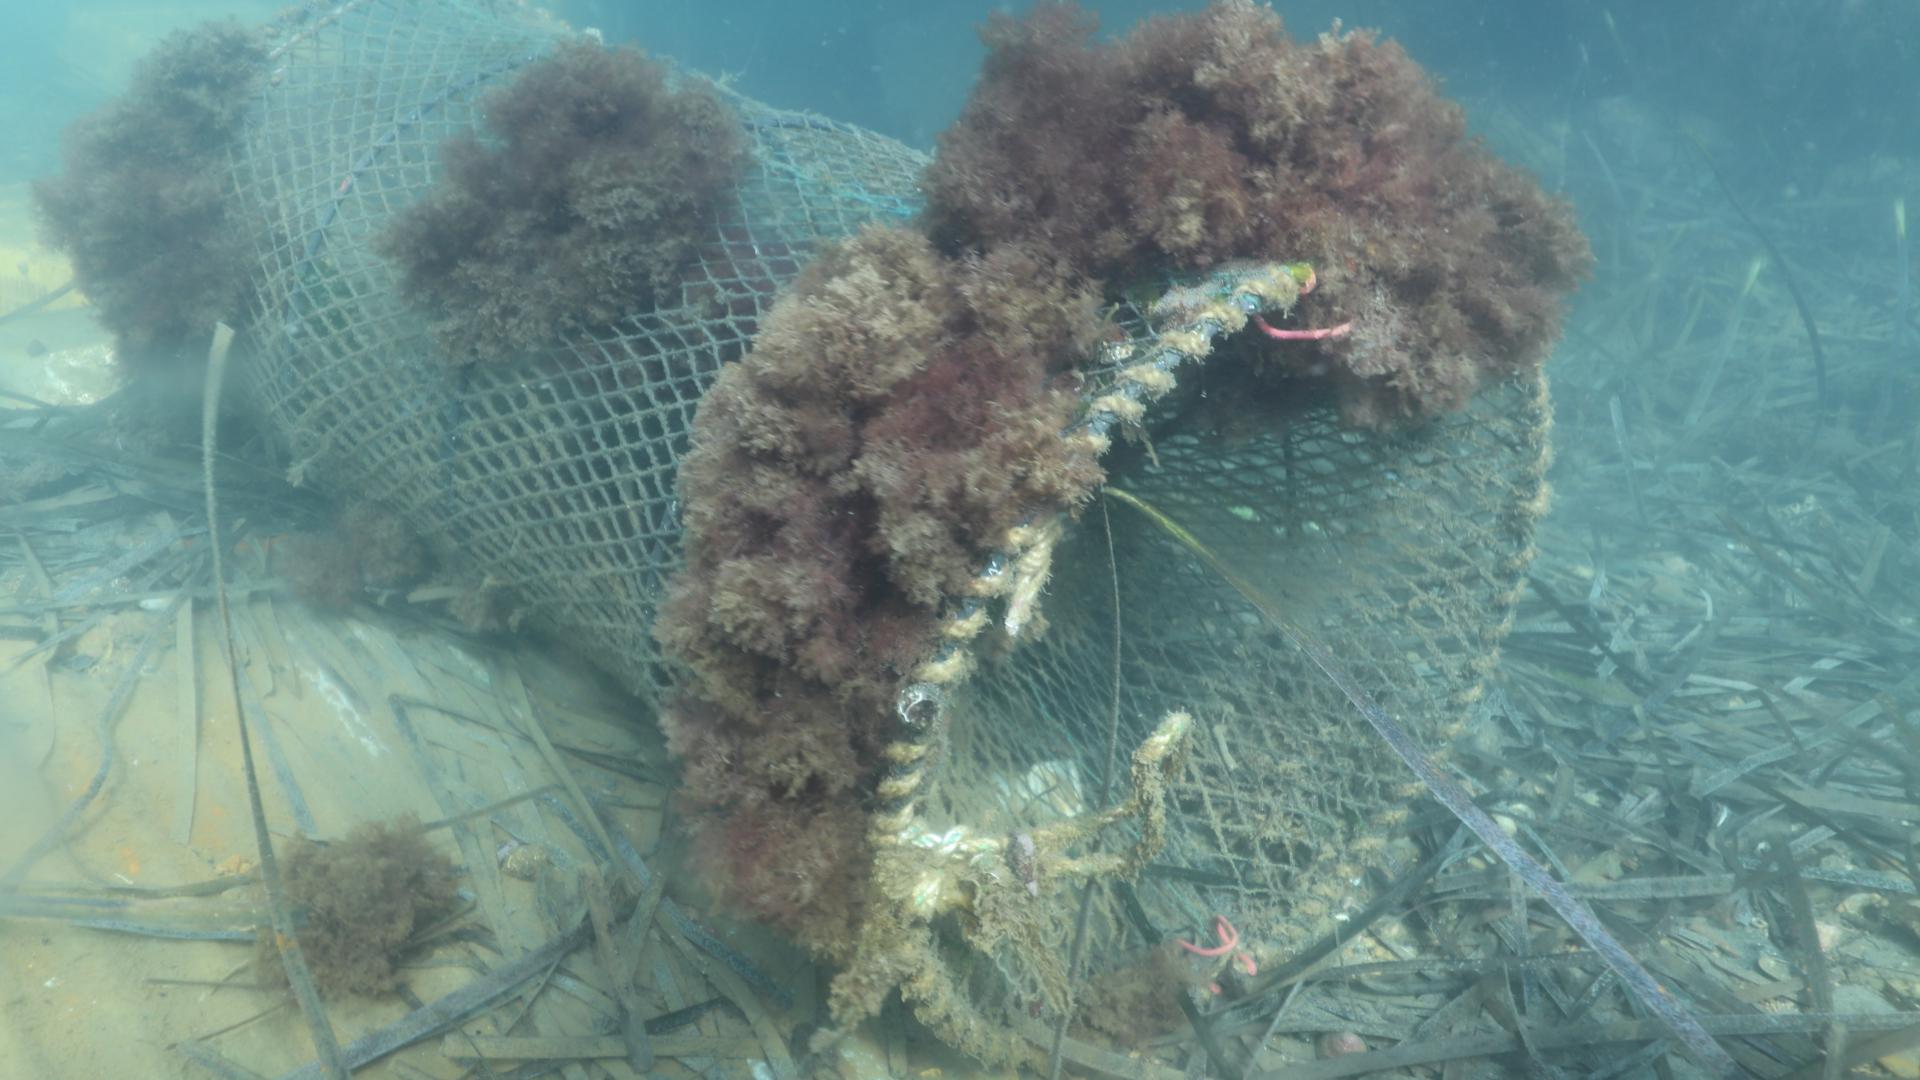spring fish trap: (215, 3, 1553, 1080)
